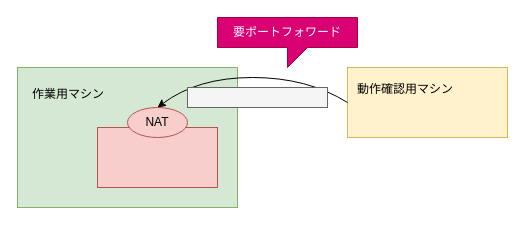
Some shapes in this 525 by 225 pixel diagram are drawn without their labels. Each missing label, with the centre of its shape:
http: point (257, 97)
minikube on VirtulBox: point (157, 157)
